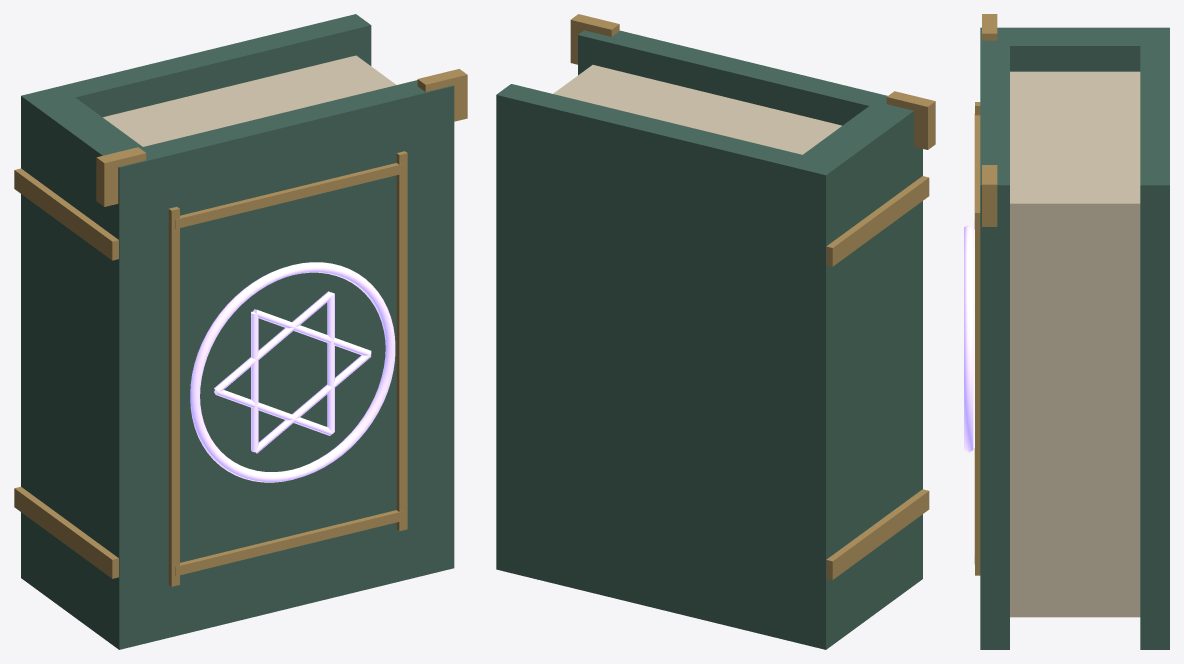
File: grimoire-backend.glb
3 renders of one model, left to right at view 1: azimuth 30°, elevation 25°; view 2: azimuth 150°, elevation 25°; view 3: azimuth 270°, elevation 25°, orthographic. The views are drawn at different scales.
Parts seen in each view (by area): view 1: Grimoire_2_green, Grimoire_2_gold, Grimoire_2_rune, Grimoire_2_paper; view 2: Grimoire_2_green, Grimoire_2_paper, Grimoire_2_gold; view 3: Grimoire_2_paper, Grimoire_2_green, Grimoire_2_gold, Grimoire_2_rune.
Boxes of the visible parts, <box> form: Grimoire_2_green: <box>21,14,454,649</box>; Grimoire_2_gold: <box>14,69,467,586</box>; Grimoire_2_rune: <box>190,262,395,482</box>; Grimoire_2_paper: <box>103,55,396,146</box>; Grimoire_2_green: <box>496,30,922,649</box>; Grimoire_2_paper: <box>553,65,841,154</box>; Grimoire_2_gold: <box>570,14,935,579</box>; Grimoire_2_paper: <box>1010,71,1140,617</box>; Grimoire_2_green: <box>980,27,1169,649</box>; Grimoire_2_gold: <box>974,14,997,575</box>; Grimoire_2_rune: <box>964,224,973,452</box>.
Bounding box in the file's own units: 0.52 × 0.67 × 0.2651.
